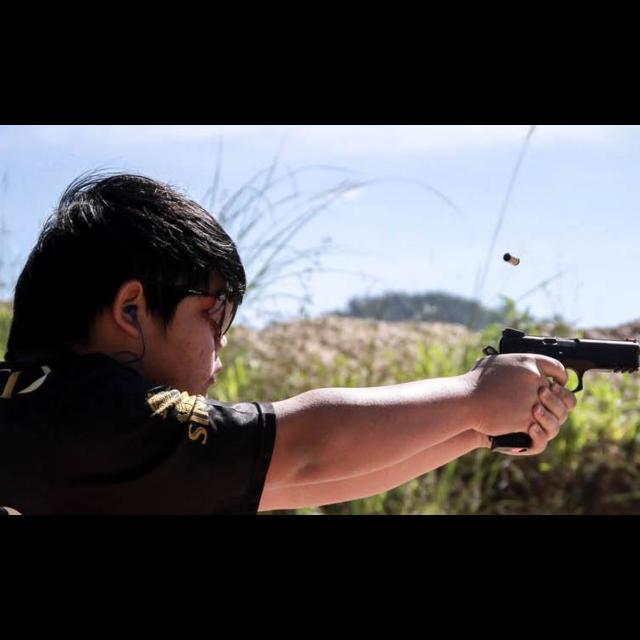handgun: (480, 326, 640, 394)
